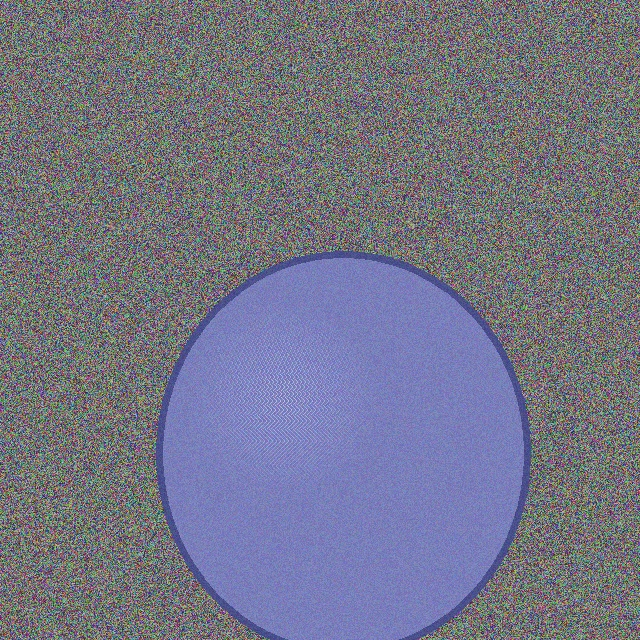lens: (159, 254, 527, 640)
